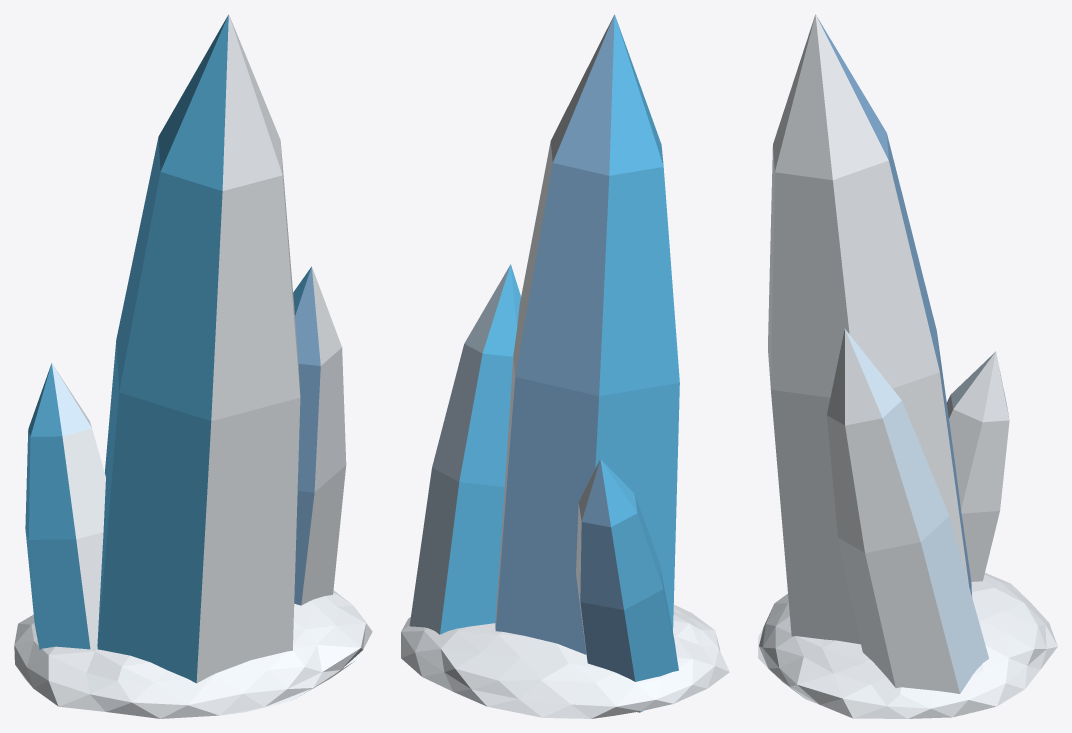
File: IceSpire.fbx
The picture shows the model from 3 angles, left to right: view 1: azimuth 30°, elevation 25°; view 2: azimuth 150°, elevation 25°; view 3: azimuth 270°, elevation 25°; orthographic projection. The views are drawn at different scales.
Visible parts, largest first — view 1: IceSpire; view 2: IceSpire; view 3: IceSpire.
Part boxes in pixels (x1,y1,x2,y2): IceSpire: [14, 14, 372, 718]; IceSpire: [401, 14, 729, 718]; IceSpire: [758, 14, 1057, 718].
Size of the model in its own units: 1.78 by 3.65 by 1.55.
1 material, 1 textured.
